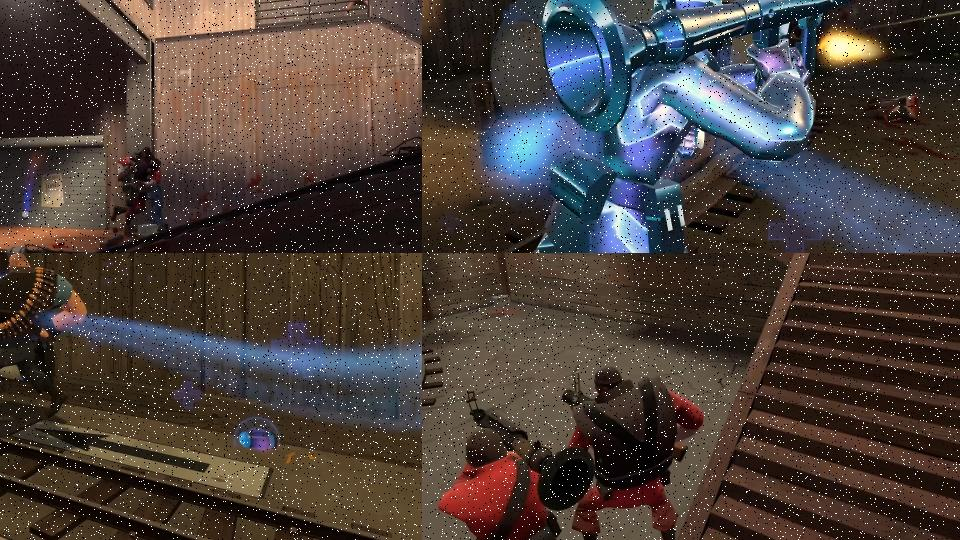Enemy: (495, 0, 862, 253), (554, 364, 710, 540), (435, 389, 599, 540), (0, 253, 87, 414), (111, 147, 163, 238), (147, 176, 170, 230), (342, 0, 372, 18)
